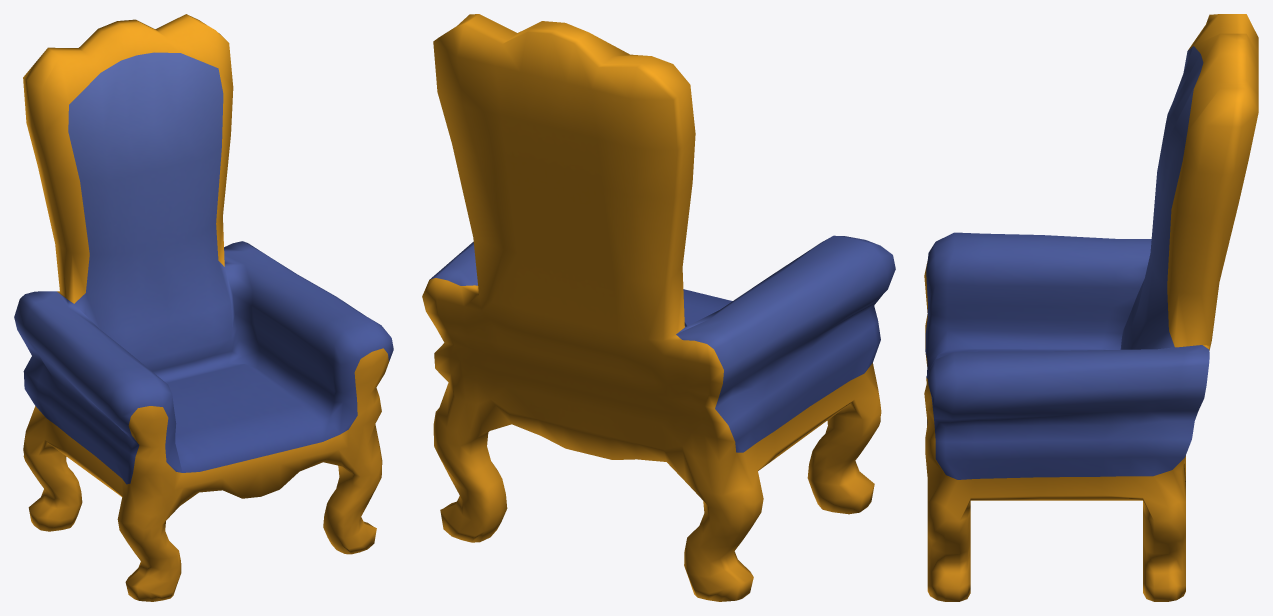
File: NOJATUOLI_NEW.fbx
3 renders of one model, left to right at view 1: azimuth 30°, elevation 25°; view 2: azimuth 150°, elevation 25°; view 3: azimuth 270°, elevation 25°, orthographic. The views are drawn at different scales.
Parts seen in each view (by area): view 1: pCube1; view 2: pCube1; view 3: pCube1.
Boxes of the visible parts, <box> form: pCube1: <box>14,14,393,601</box>; pCube1: <box>422,14,895,601</box>; pCube1: <box>924,14,1258,601</box>.
Size of the model in its own units: 0.7497 by 1.16 by 0.7086.
